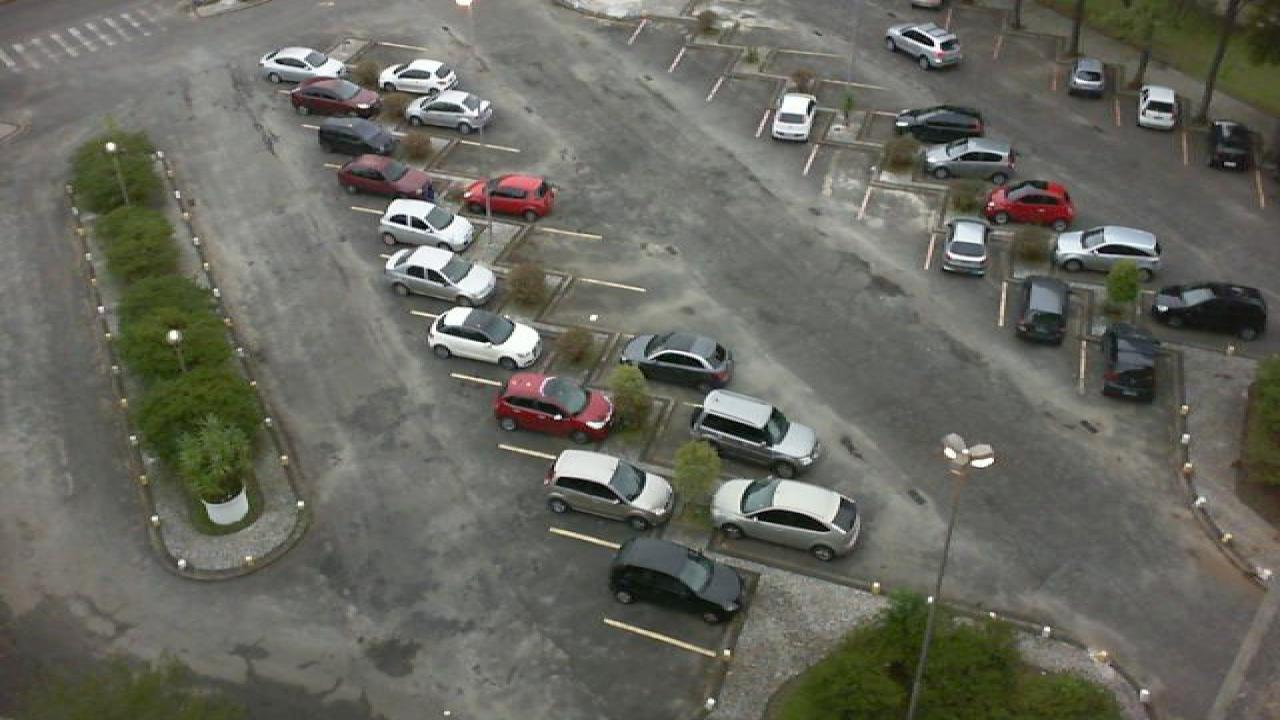Car: (706, 476, 864, 560), (606, 536, 744, 624), (690, 388, 824, 475), (544, 446, 678, 530), (490, 370, 614, 446), (422, 303, 542, 370), (1150, 279, 1270, 342), (380, 245, 498, 307), (616, 329, 738, 388), (1054, 224, 1164, 276), (378, 198, 478, 254), (336, 152, 440, 204), (982, 179, 1080, 231), (1098, 325, 1162, 402), (464, 171, 556, 219), (922, 135, 1018, 180), (286, 75, 386, 118), (1014, 274, 1074, 344), (890, 102, 986, 144), (884, 21, 966, 70), (406, 90, 496, 134), (258, 44, 348, 85), (314, 116, 406, 156), (940, 217, 994, 277), (380, 57, 460, 94), (1208, 118, 1258, 171), (768, 91, 818, 143), (1134, 84, 1180, 132), (1066, 56, 1108, 97)
